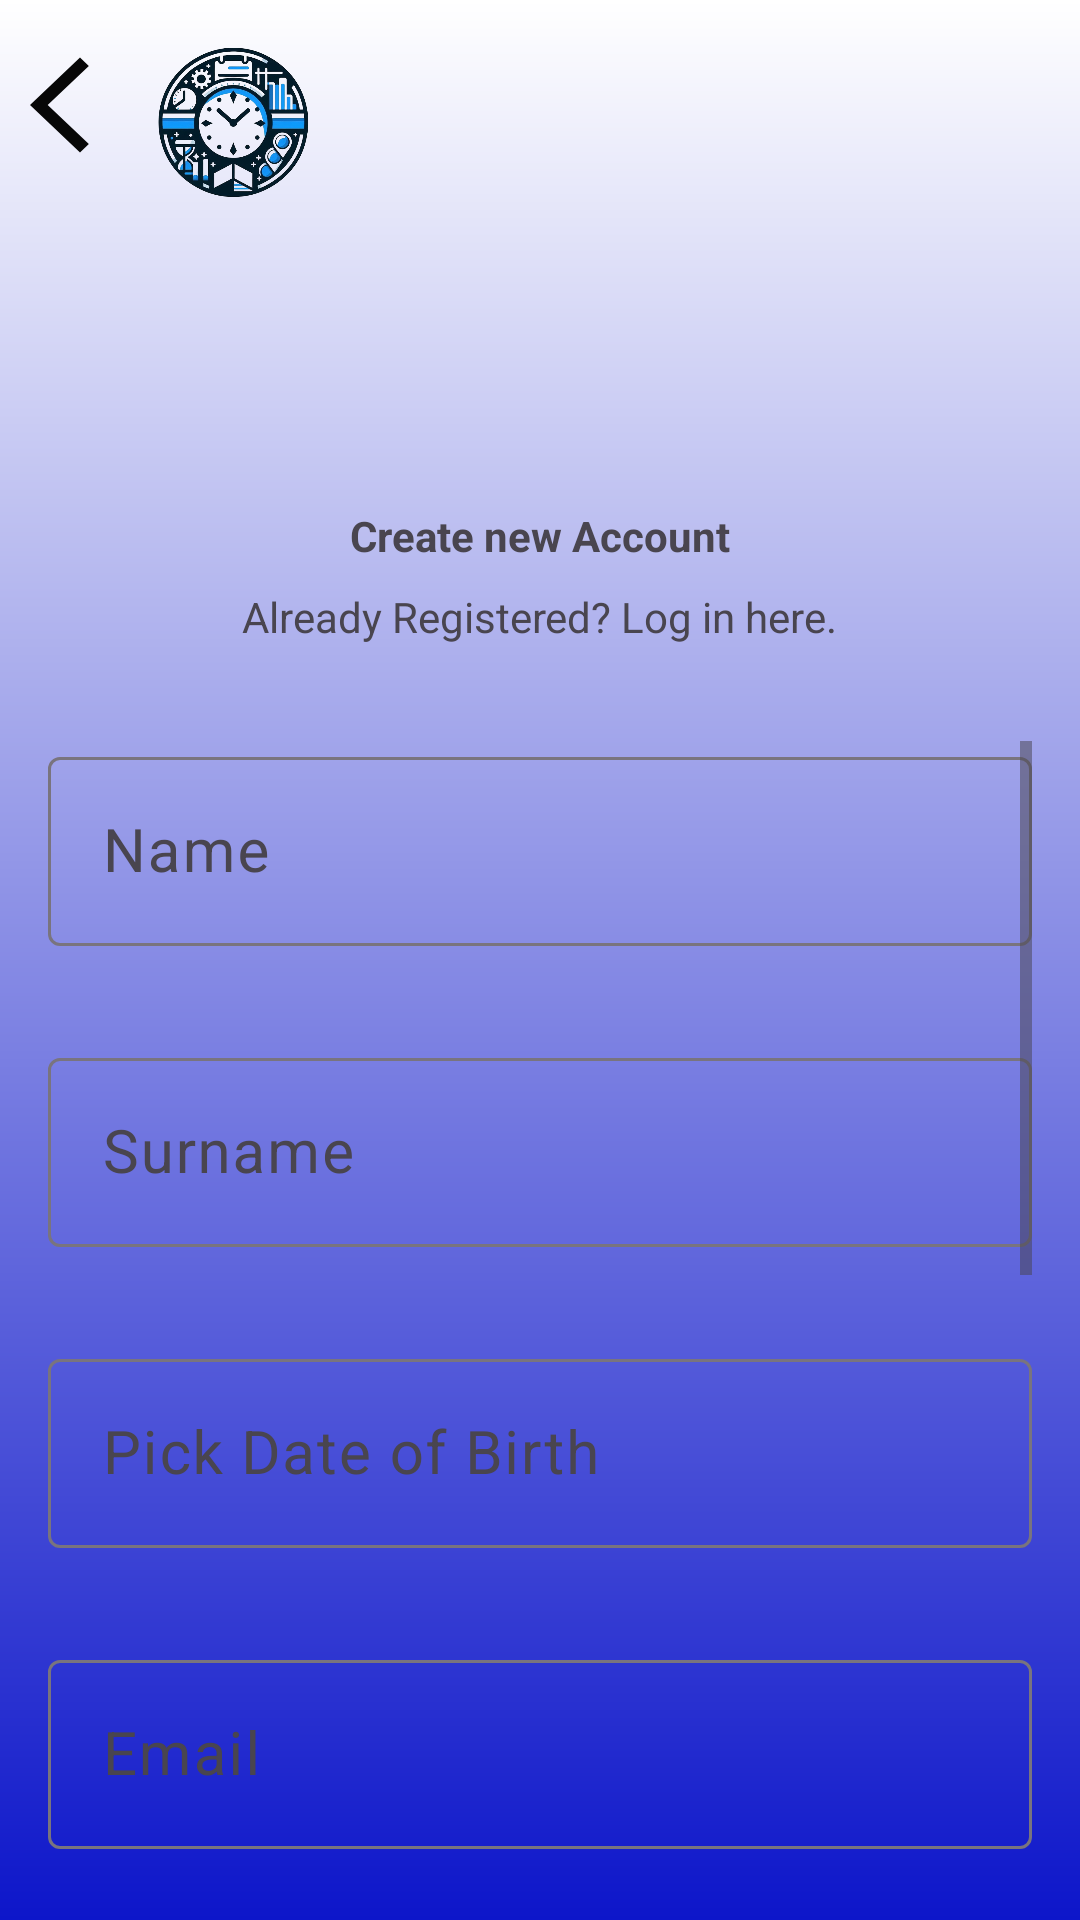

Named icons in this screenshot (1080x1920) and their centers, (x=x, y=y):
back arrow: (x=59, y=105)
